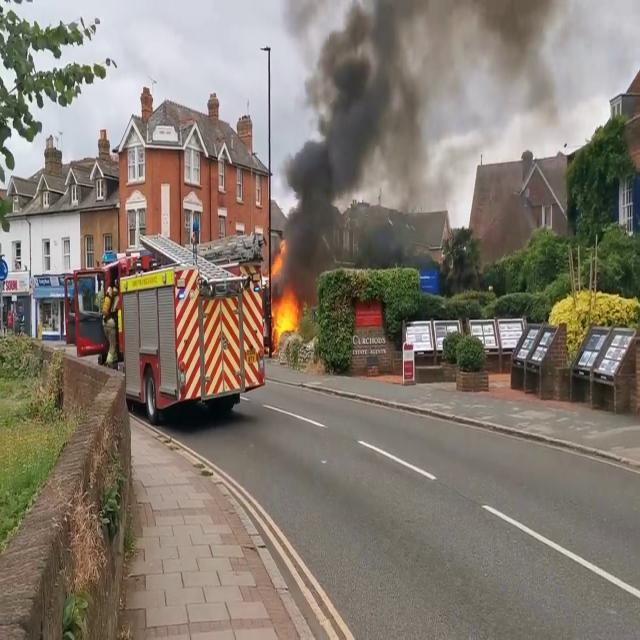Fire: (268, 275, 302, 345)
Smoke: (276, 0, 442, 276), (469, 0, 569, 154)
